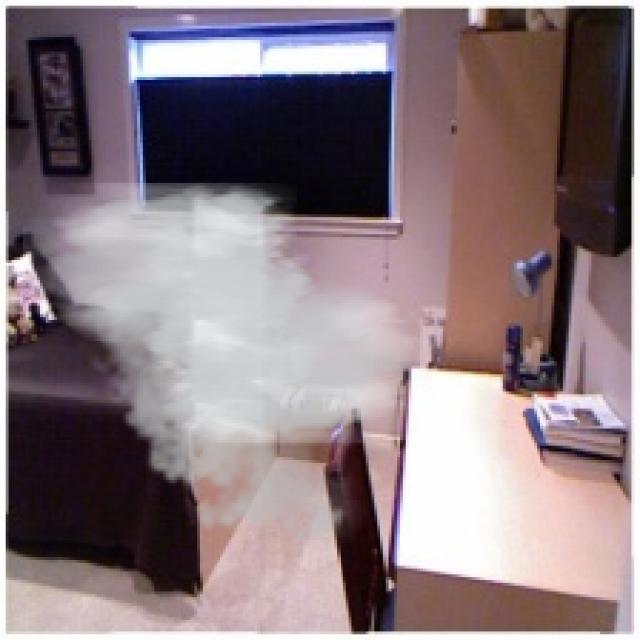Smoke: (22, 182, 434, 554)
